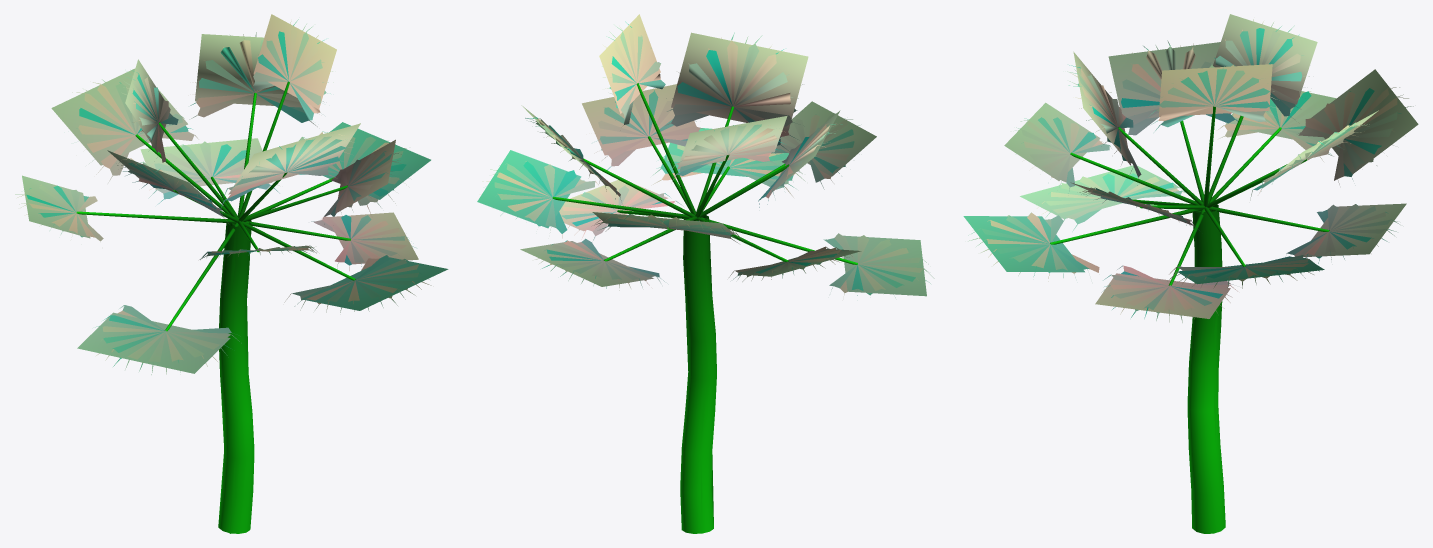
Rendered from fan_palm_3.glb.
3 views of the same model, side by side, from view 1: azimuth 30°, elevation 25°; view 2: azimuth 150°, elevation 25°; view 3: azimuth 270°, elevation 25° (orthographic). The views are drawn at different scales.
Visible parts, largest first — view 1: near, mid; view 2: near, mid; view 3: near, mid.
Boxes of the visible parts, left/top/right/bottom form: near: left=15, top=19, right=431, bottom=533; mid: left=22, top=14, right=448, bottom=533; near: left=481, top=21, right=934, bottom=533; mid: left=477, top=14, right=926, bottom=531; near: left=968, top=19, right=1413, bottom=533; mid: left=963, top=14, right=1418, bottom=449.
Size of the model in its own units: 6.18 by 7.39 by 6.04.
